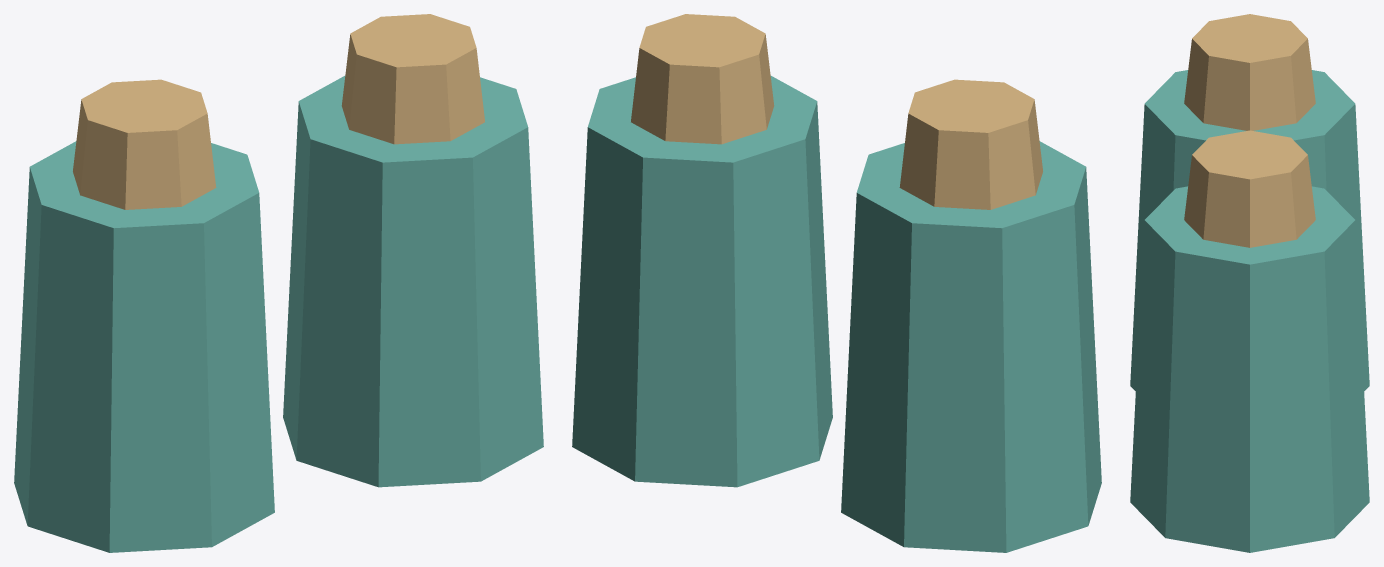
File: CC_MedicineStandard.fbx
3 renders of one model, left to right at view 1: azimuth 30°, elevation 25°; view 2: azimuth 150°, elevation 25°; view 3: azimuth 270°, elevation 25°, orthographic. The views are drawn at different scales.
Parts seen in each view (by area): view 1: Medicine jar.009, Medicine jar.010, Cork.010, Cork.009; view 2: Medicine jar.009, Medicine jar.010, Cork.010, Cork.009; view 3: Medicine jar.010, Medicine jar.009, Cork.009, Cork.010.
Part boxes in pixels (<box>): Medicine jar.009: <box>14,141,274,552</box>; Medicine jar.010: <box>283,76,543,487</box>; Cork.010: <box>341,14,484,144</box>; Cork.009: <box>73,79,216,209</box>; Medicine jar.009: <box>841,141,1101,552</box>; Medicine jar.010: <box>572,76,832,487</box>; Cork.010: <box>631,14,774,144</box>; Cork.009: <box>899,79,1042,209</box>; Medicine jar.010: <box>1130,186,1369,552</box>; Medicine jar.009: <box>1130,70,1369,391</box>; Cork.009: <box>1184,14,1315,130</box>; Cork.010: <box>1184,130,1315,247</box>.
Bounding box in the file's own units: 0.43 × 0.32 × 0.2.
